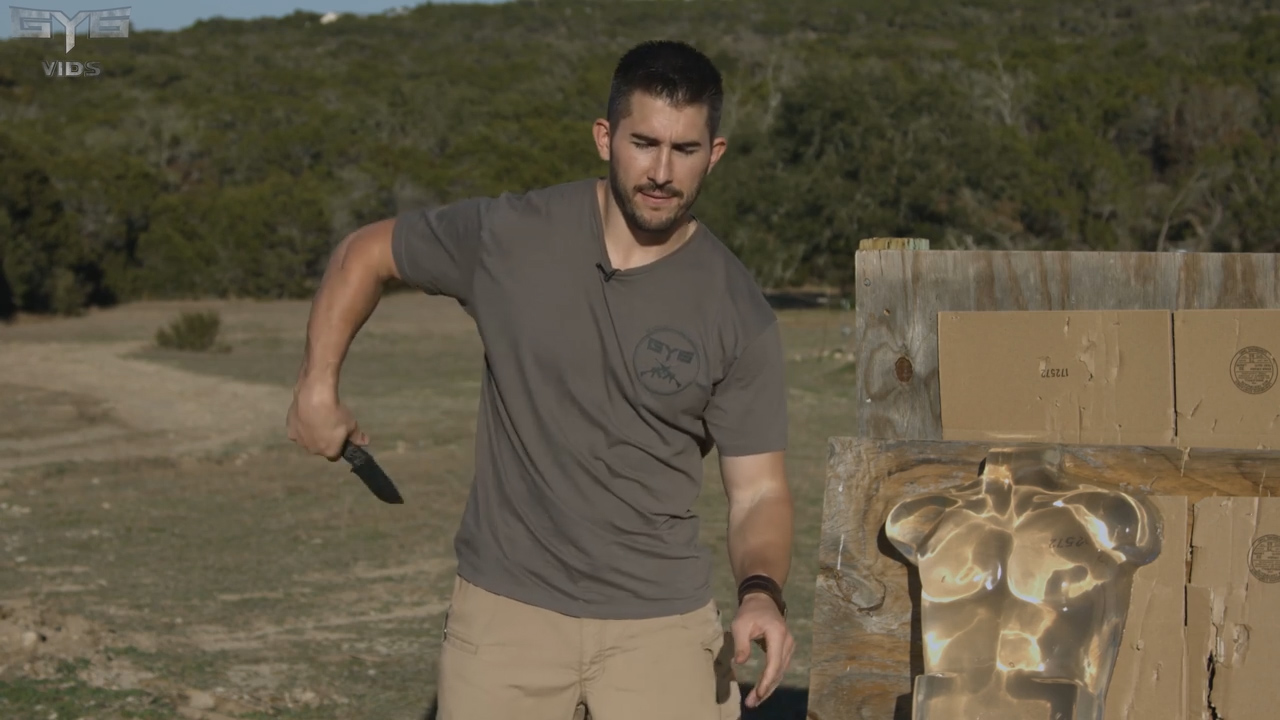knife: (274, 397, 409, 516)
